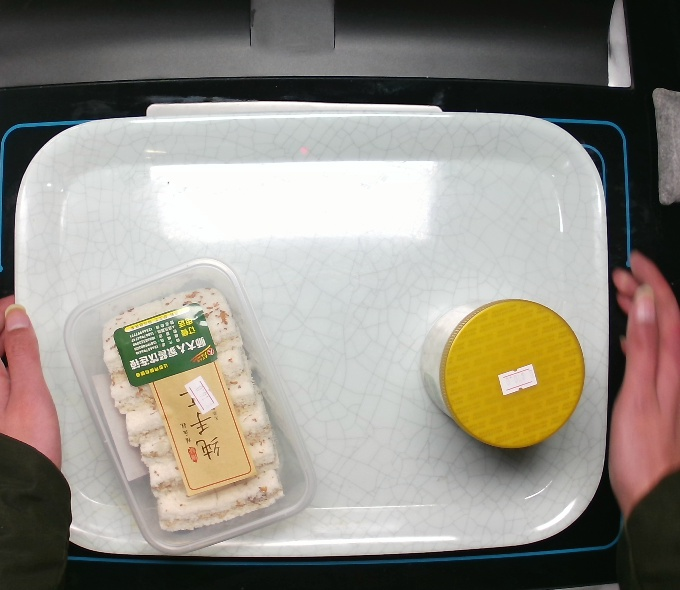wcq-GuiHuaGao: (61, 254, 319, 556)
wcq-MaiYaTang: (418, 297, 587, 450)
